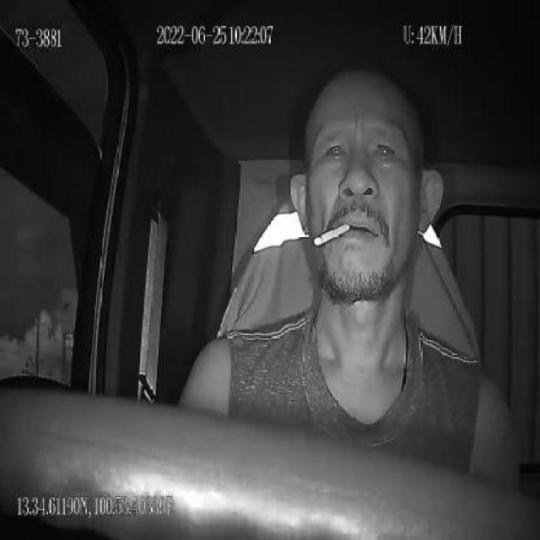smoking: (314, 220, 349, 248)
